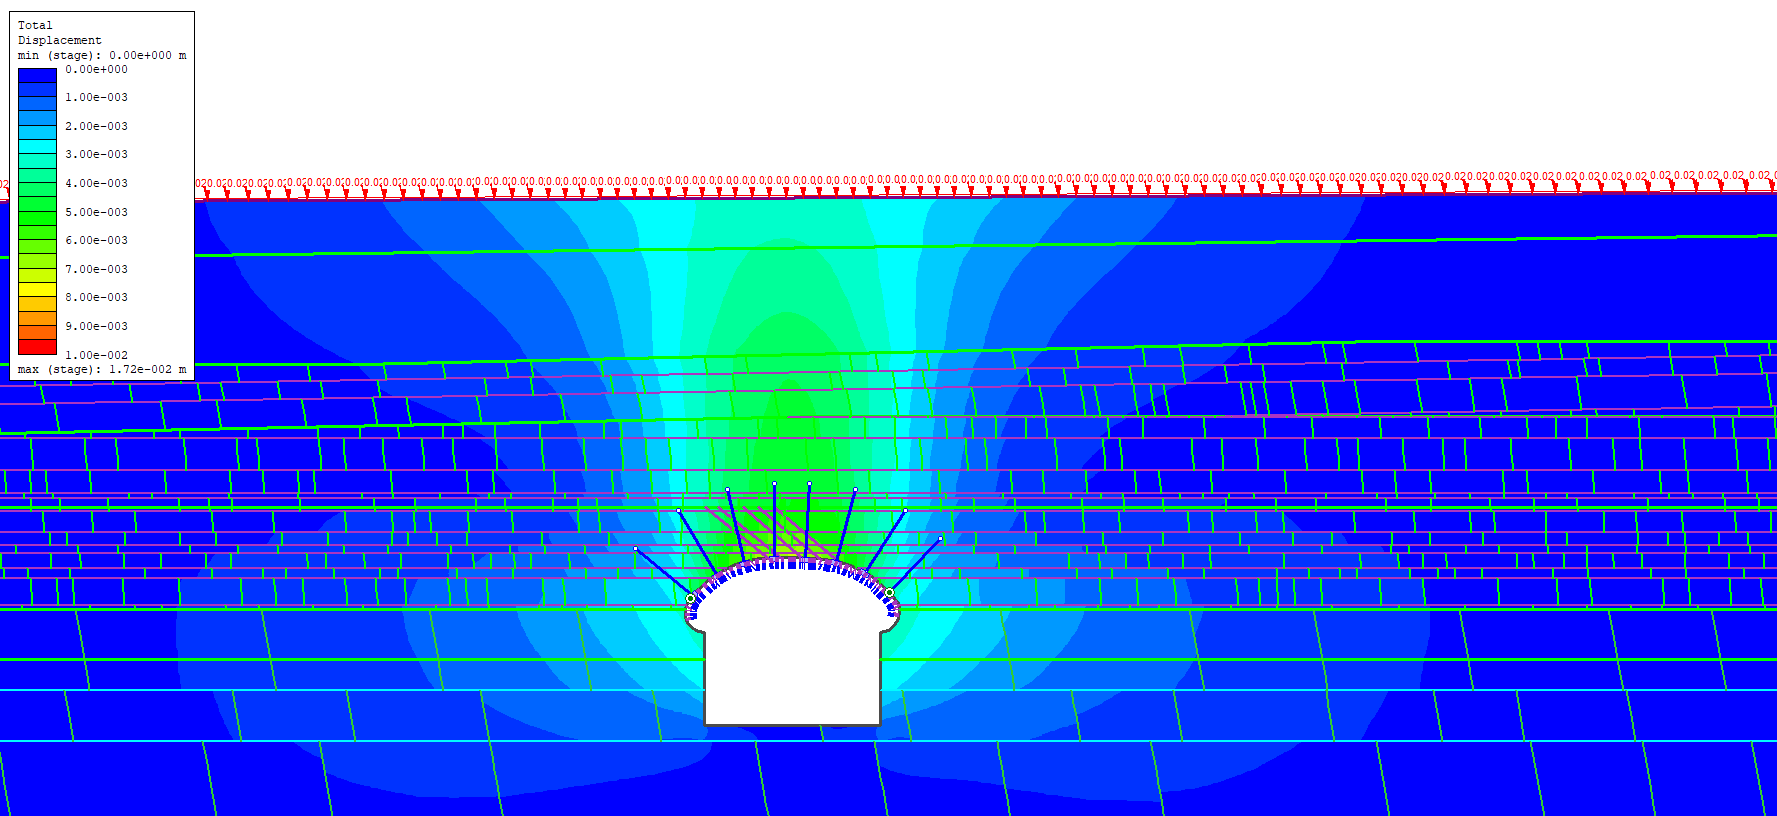crown: (753, 529, 817, 550)
label: (8, 12, 195, 376)
tunnel-opening: (690, 555, 900, 724)
